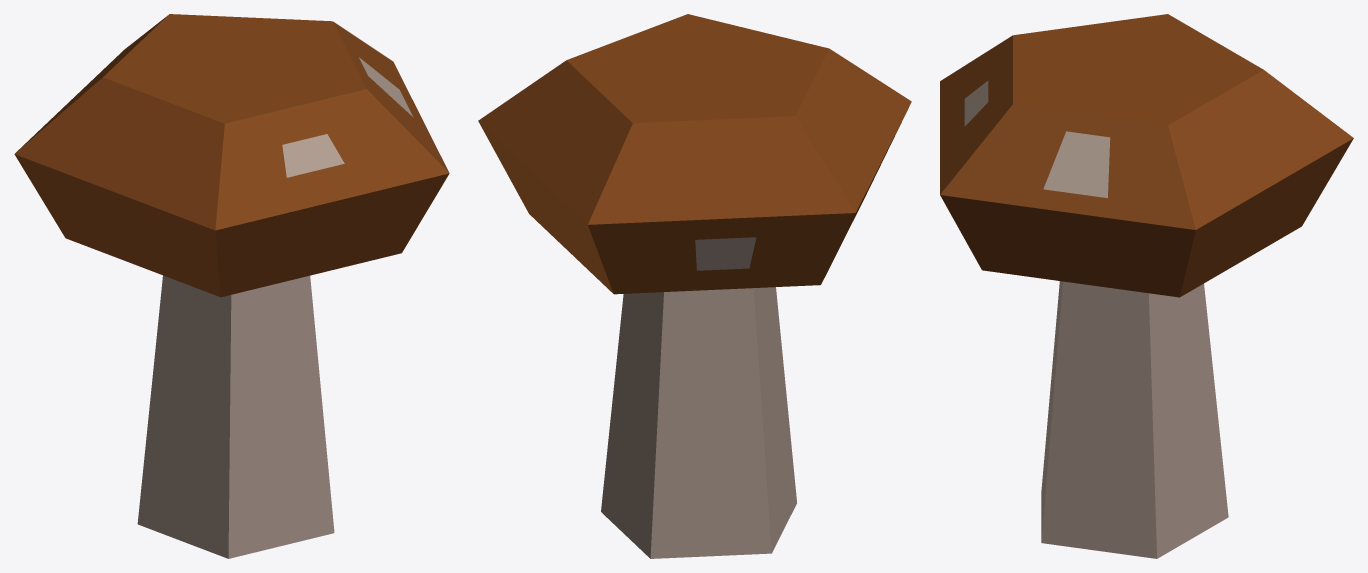
Rendered from ButtonMushroom1.fbx.
The picture shows the model from 3 angles, left to right: view 1: azimuth 30°, elevation 25°; view 2: azimuth 150°, elevation 25°; view 3: azimuth 270°, elevation 25°; orthographic projection.
Visible parts, largest first — view 1: ButtonMushroom1; view 2: ButtonMushroom1; view 3: ButtonMushroom1.
Part boxes in pixels (x1,y1,x2,y2): ButtonMushroom1: (14, 14, 449, 558); ButtonMushroom1: (478, 14, 911, 558); ButtonMushroom1: (940, 14, 1353, 558).
Bounding box in the file's own units: 15.68 × 17.8 × 14.91.
